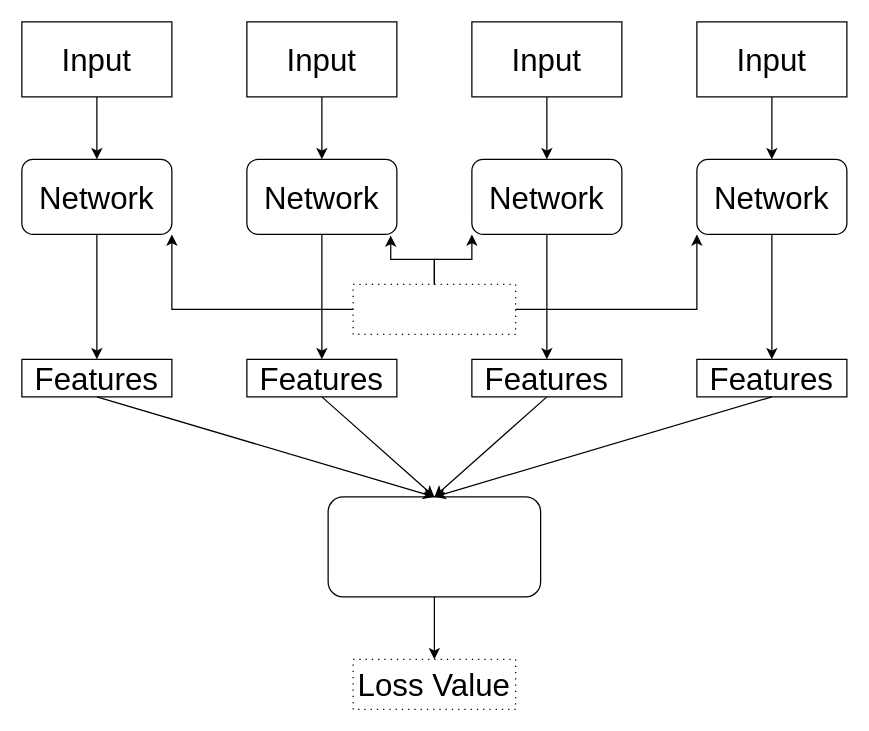
This 869x731 diagram has some shape labels left out. The shapes that lost their labels are listed below. From the top down, each one's centre as x and y in pixels, then its label:
(x=434, y=308): Weights
(x=434, y=546): Loss function
